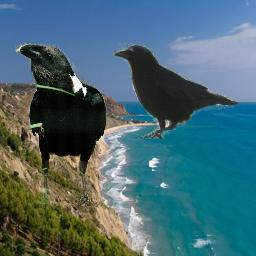Crow: (15, 43, 106, 208), (110, 42, 238, 139)
